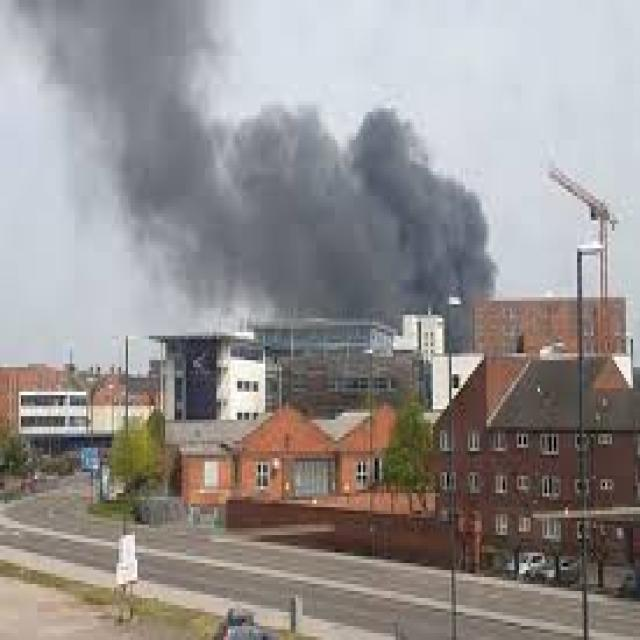Smoke: (0, 0, 502, 318)
